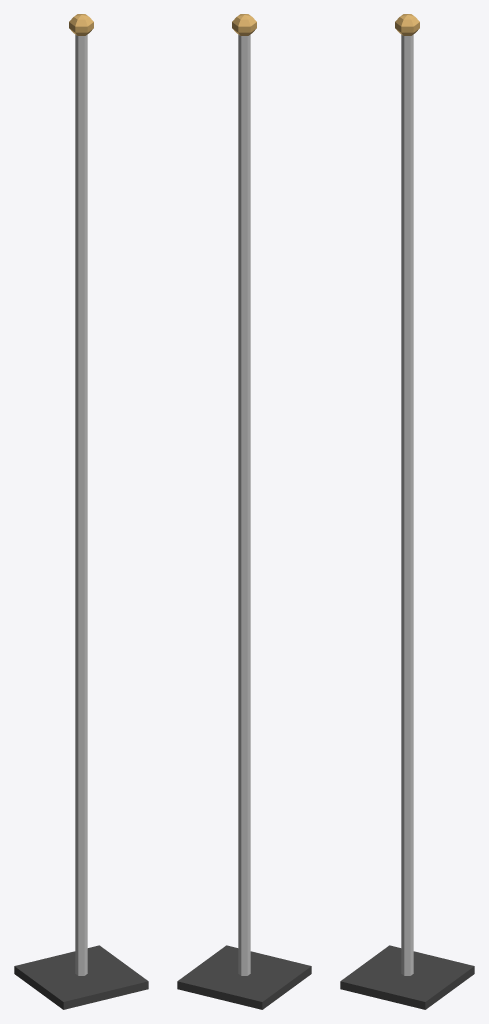
The model's file is P_J_FLAG POLE .fbx.
3 views of the same model, side by side, from view 1: azimuth 30°, elevation 25°; view 2: azimuth 150°, elevation 25°; view 3: azimuth 330°, elevation 25° (orthographic).
Visible parts, largest first — view 1: J_Flag_Pole; view 2: J_Flag_Pole; view 3: J_Flag_Pole.
Boxes of the visible parts, bbox=[...] form: J_Flag_Pole: bbox=[14, 14, 148, 1009]; J_Flag_Pole: bbox=[177, 14, 311, 1009]; J_Flag_Pole: bbox=[340, 14, 474, 1009].
Size of the model in its own units: 200 by 2170 by 200.
